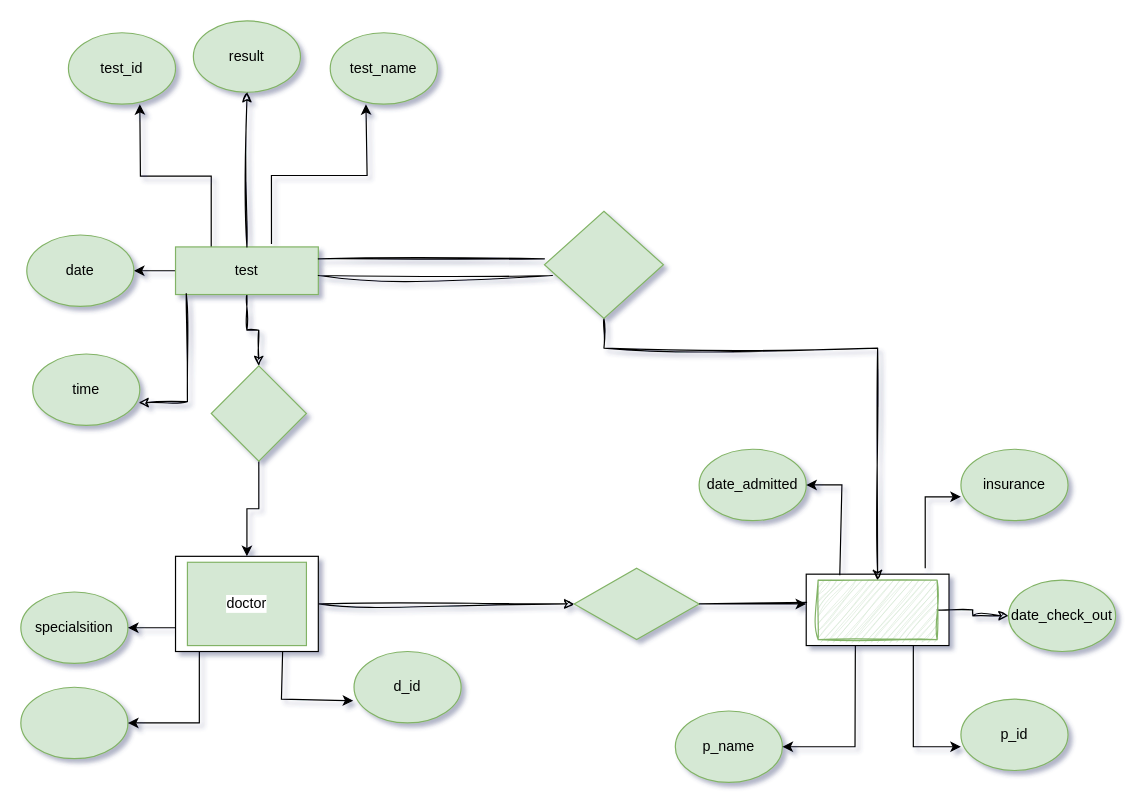
The diagram is 1144 pixels wide and 810 high, and some of its shapes have lost their labels. Here are the shapes that lost their labels. From the top down, the box of each, then its label:
(543, 210, 663, 318): test_log
(210, 365, 306, 461): performed by
(573, 567, 699, 640): doctors_patient
(817, 579, 937, 640): patient
(20, 686, 128, 759): d_name
